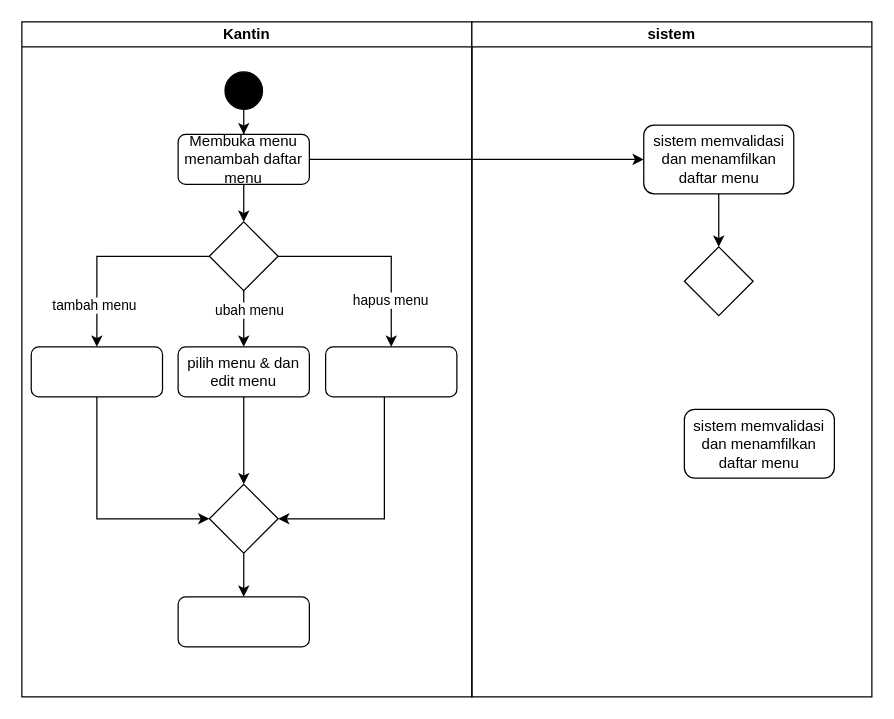
The diagram is 894 pixels wide and 719 high, and some of its shapes have lost their labels. The shapes that lost their labels are listed below. From the top down, each one's centre as x and y in pixels, then its label:
At point 96,371: "input menu".
At point 390,371: "konfirmasi hapus menu".
At point 243,621: "kirim perubahan menu".
